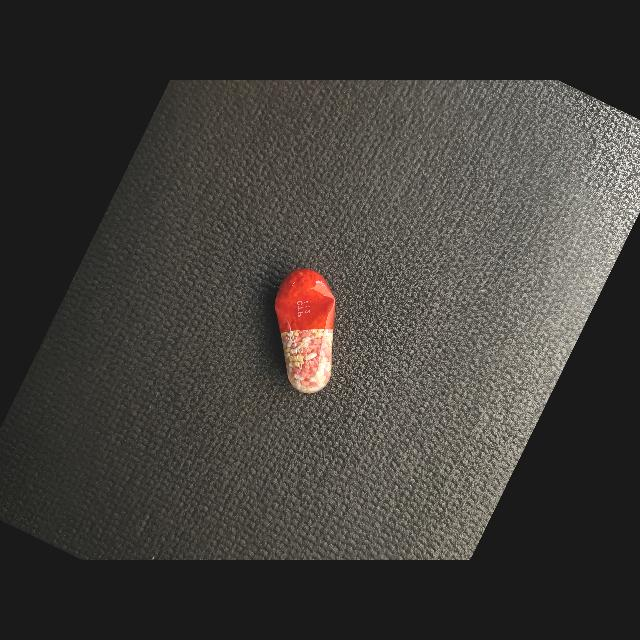Defective Capsule: (275, 269, 336, 393)
